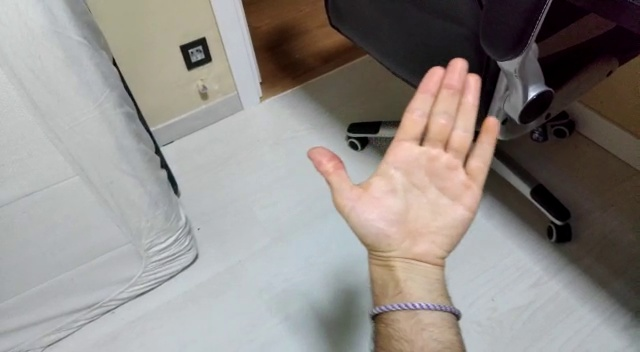Palm: (304, 55, 501, 280)
